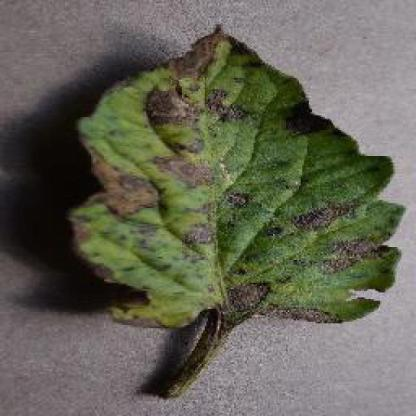Tomato_Blight: (67, 24, 406, 328)
